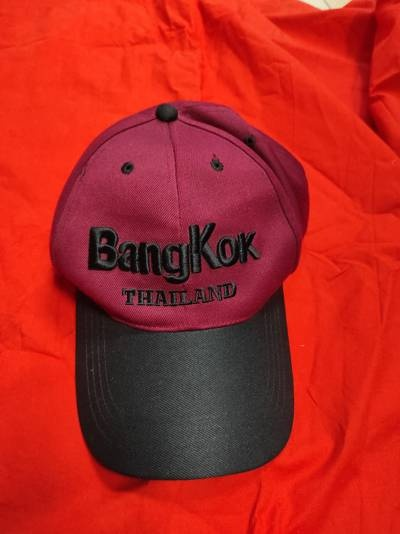Hat: (11, 73, 345, 493)
